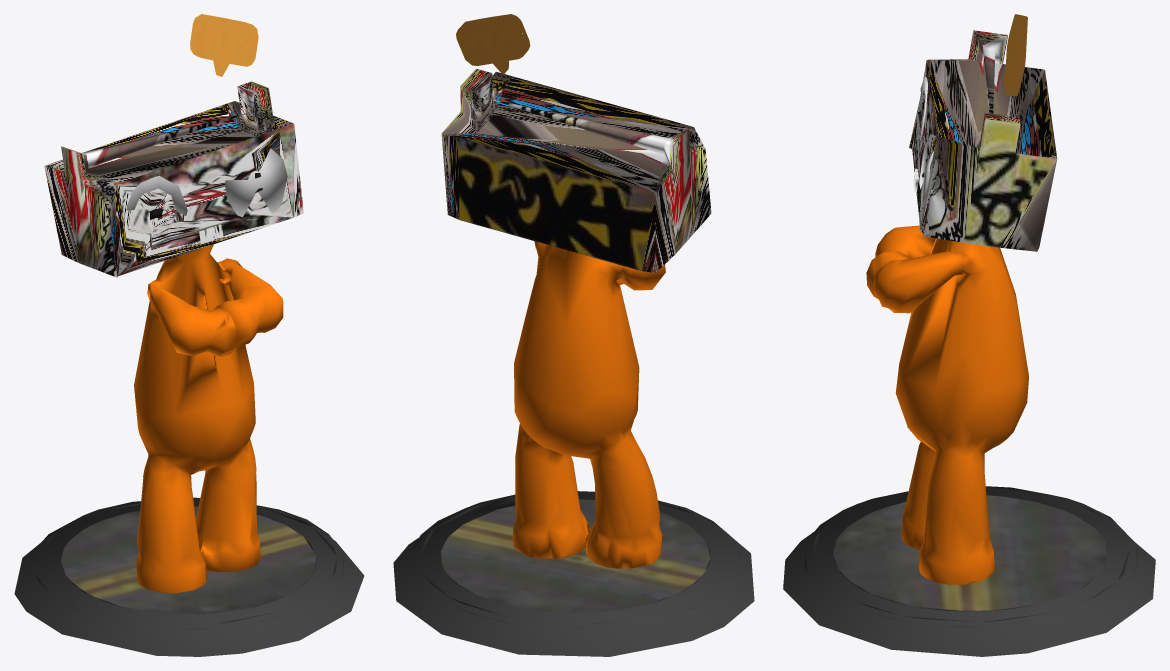
3 views of the same model, side by side, from view 1: azimuth 30°, elevation 25°; view 2: azimuth 150°, elevation 25°; view 3: azimuth 270°, elevation 25° (orthographic). The views are drawn at different scales.
Bounding box in the file's own units: 1.44 × 2.45 × 1.42.
Materials: 8 (3 with a texture image).
